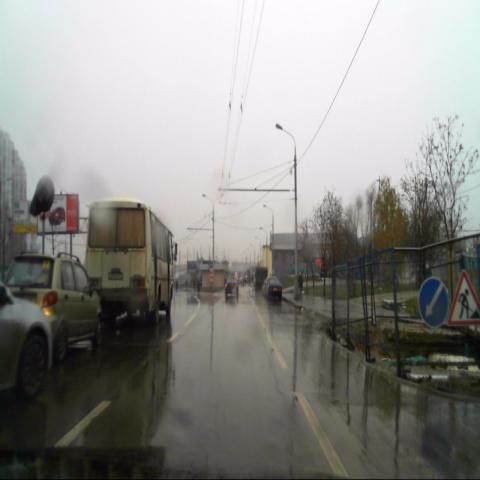4_2_2: (418, 277, 447, 327)
